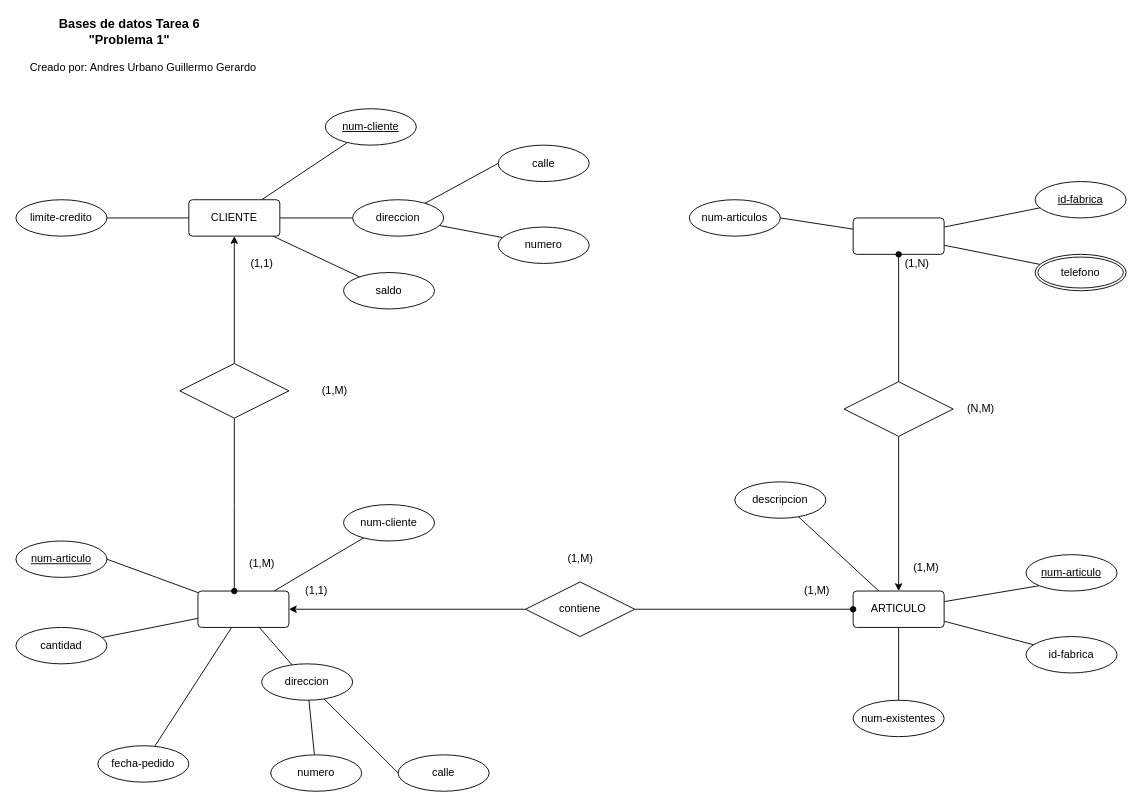
Some shapes in this 1142 by 807 pixel diagram are drawn without their labels. The shapes that lost their labels are listed below. From the top down, each one's centre as x and y in pixels, then its label:
At point (898, 235): "FABRICA".
At point (234, 390): "tiene".
At point (898, 408): "genera".
At point (243, 608): "PEDIDO".
